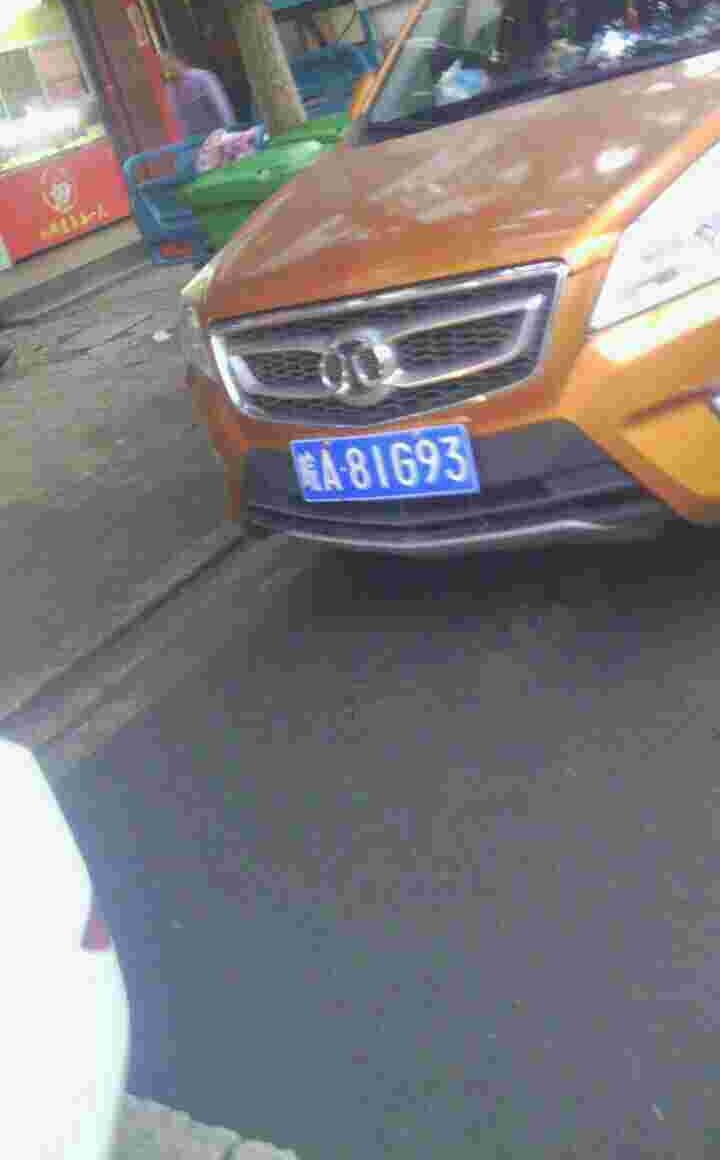license_plate: (298, 420, 479, 500)
